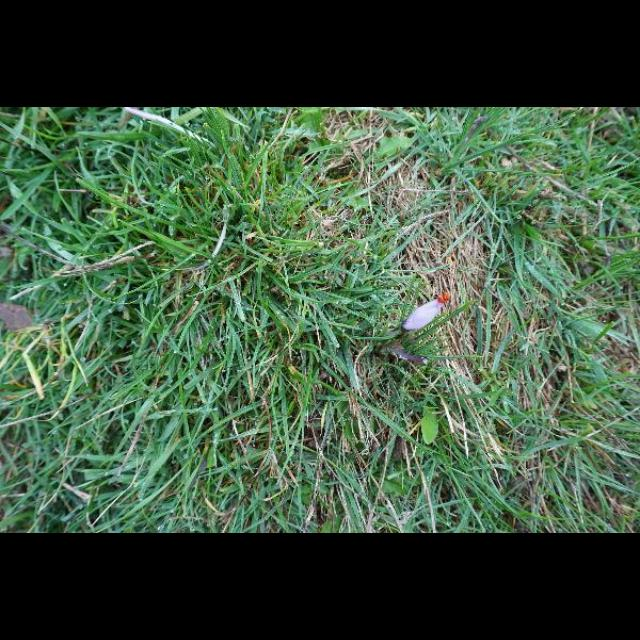flower: (405, 292, 451, 332)
